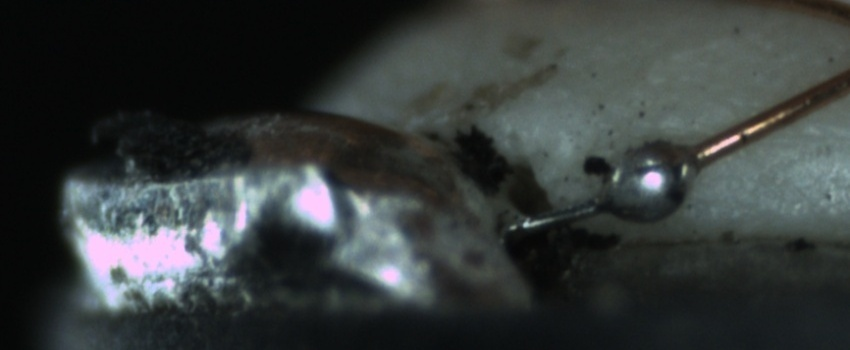DL: (771, 113, 849, 169)
TB: (593, 137, 703, 225)
TS: (503, 141, 698, 238)
TTCW: (496, 123, 743, 249)
